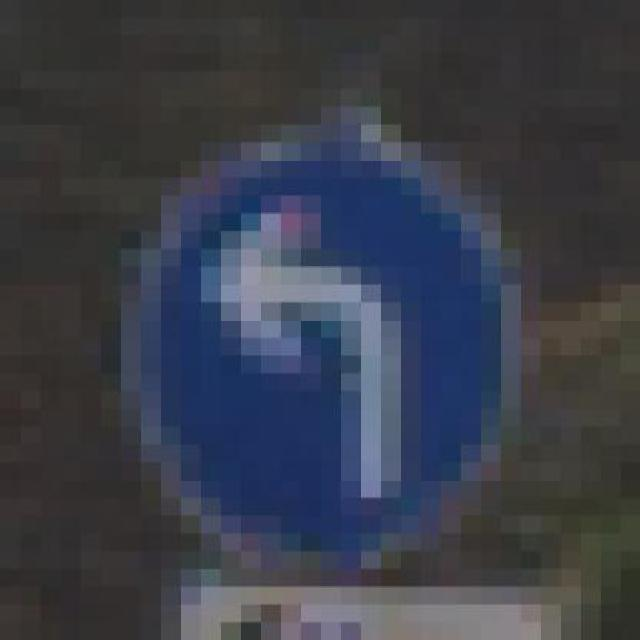Turn left ahead: (120, 89, 540, 569)
